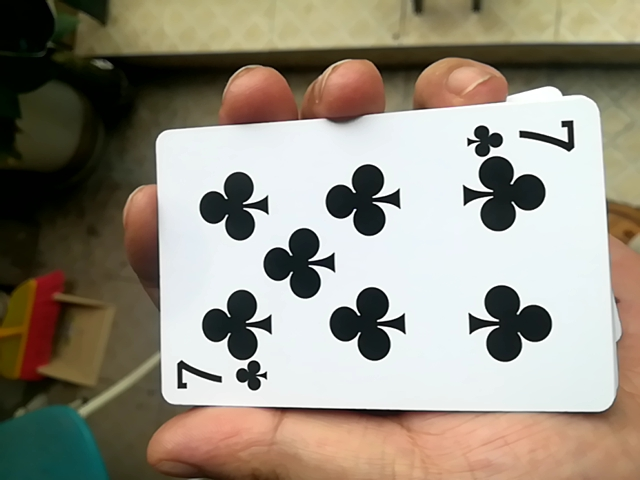mh 7: (140, 102, 613, 421)
